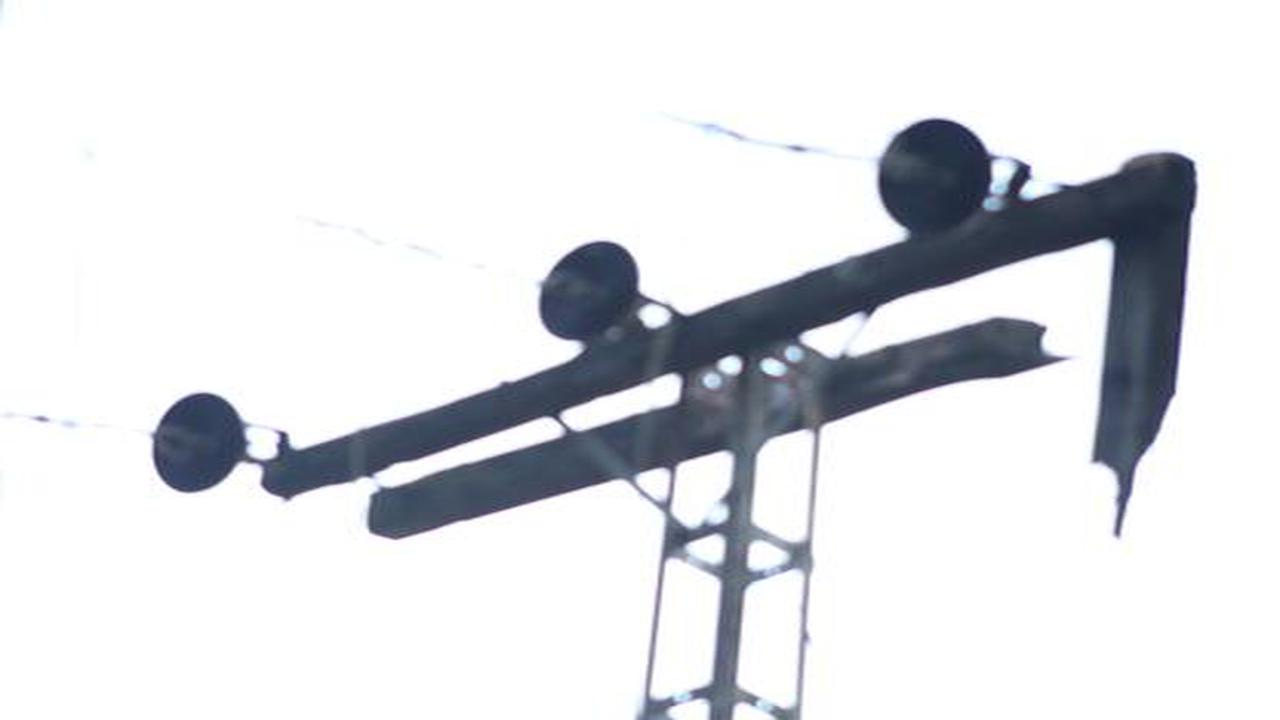insulator_disc: (875, 115, 998, 232), (536, 237, 649, 339), (150, 388, 253, 496)
